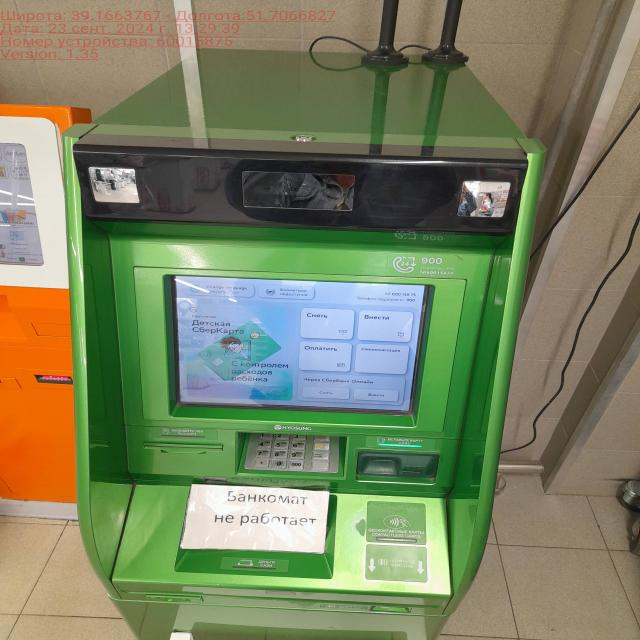bank: (57, 45, 545, 640)
